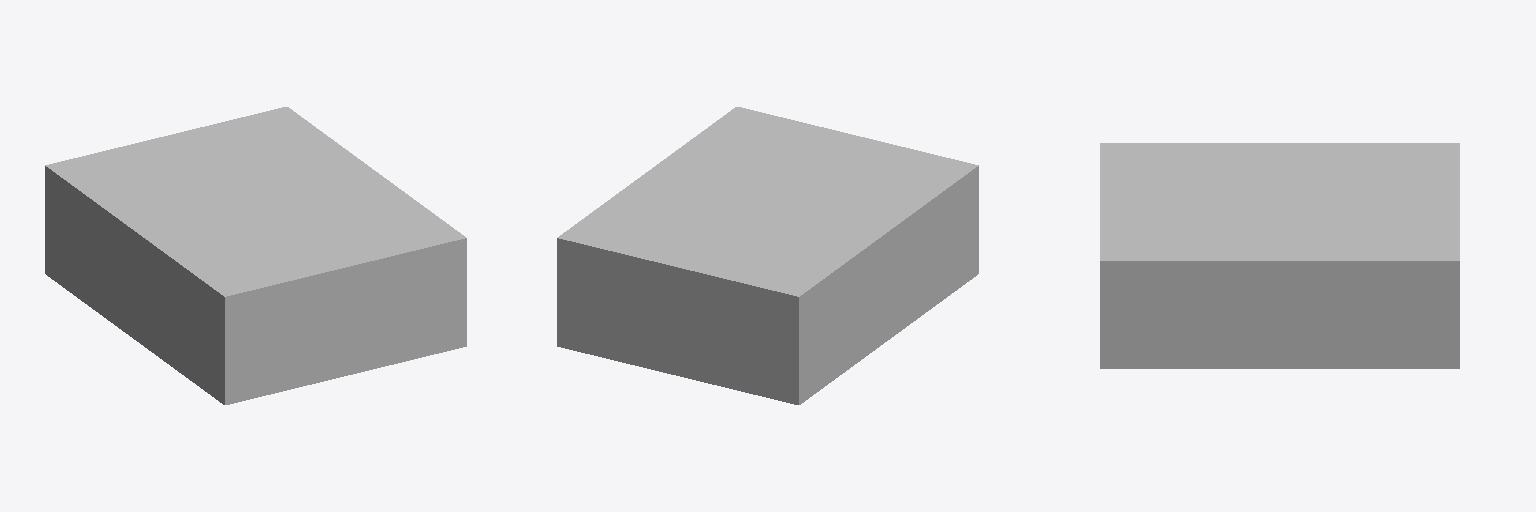
File: closed-room-of-boxes.obj
The picture shows the model from 3 angles: view 1: azimuth 30°, elevation 25°; view 2: azimuth 150°, elevation 25°; view 3: azimuth 270°, elevation 25°; orthographic projection.
Bounding box in the file's own units: 7 × 3 × 9.